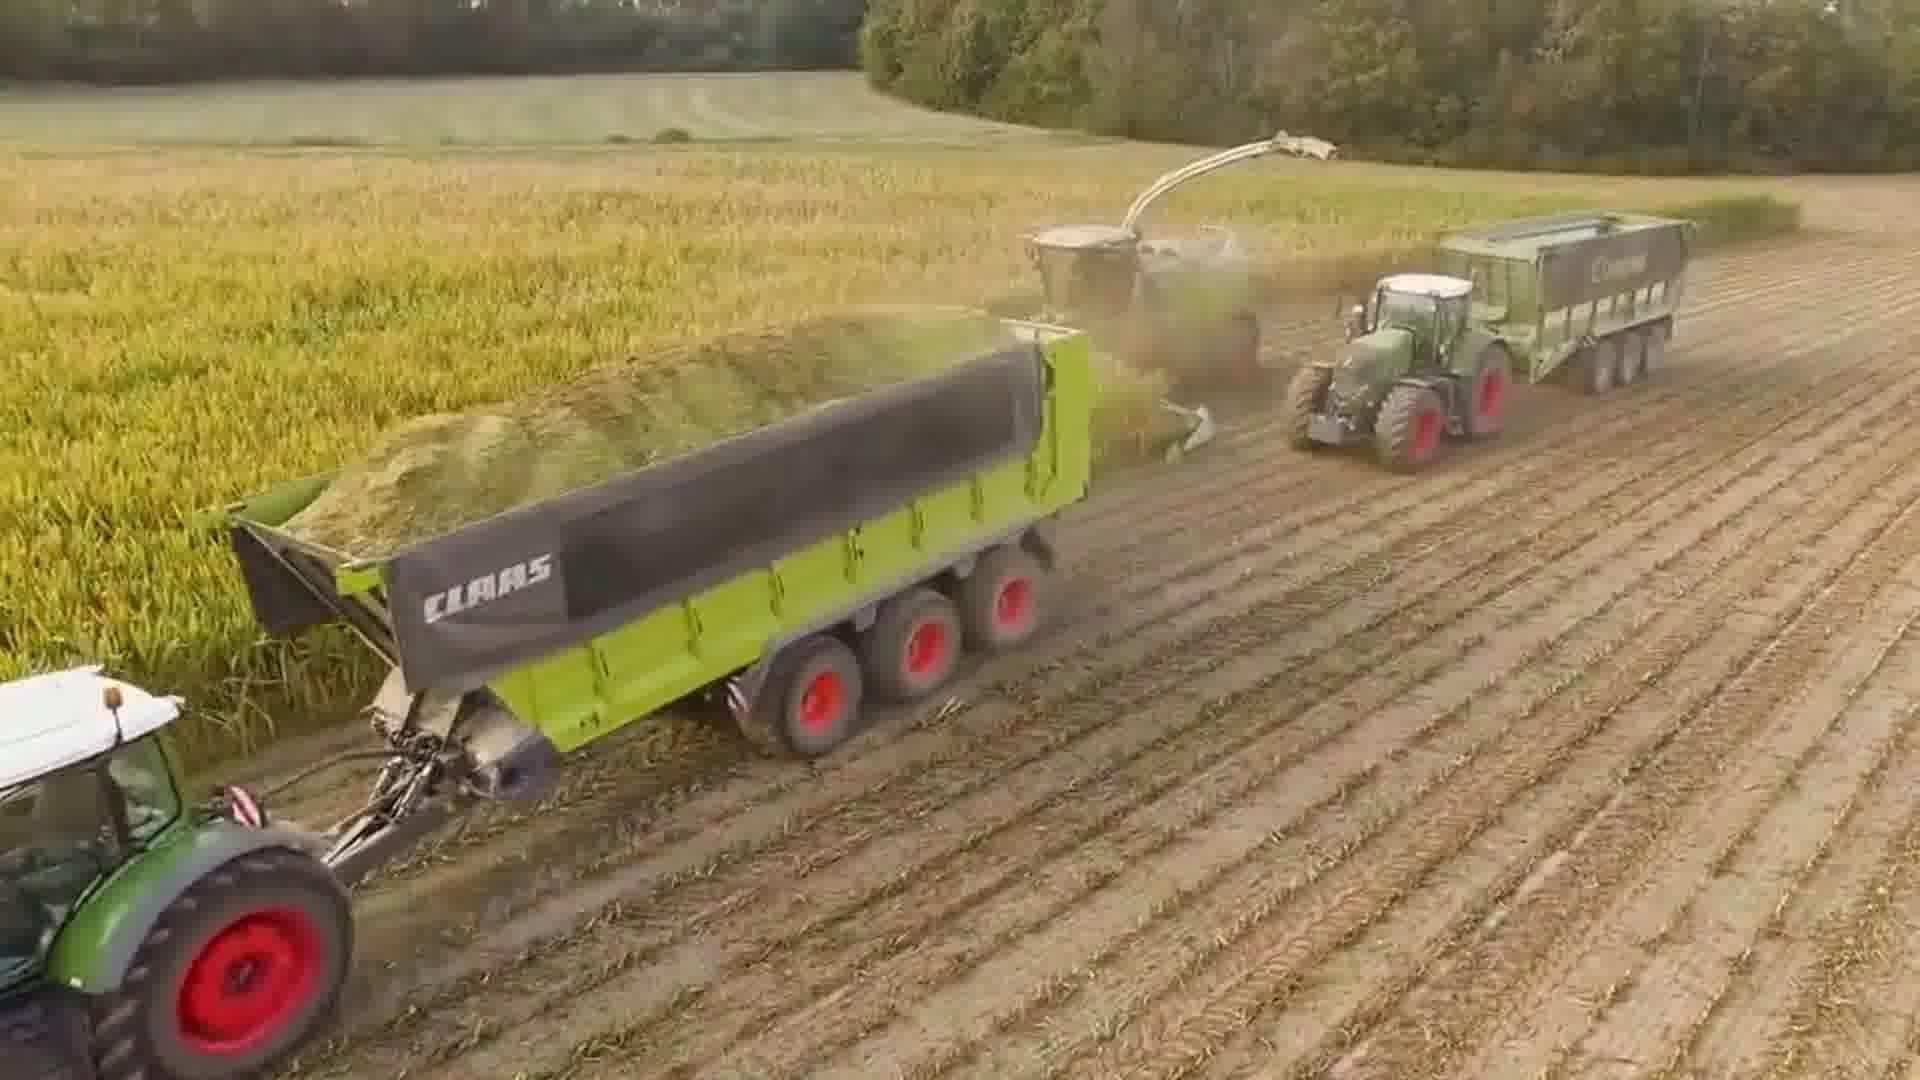combine harvester: (994, 124, 1346, 389)
tractor: (0, 654, 360, 1080), (1280, 268, 1516, 473)
trailer: (202, 290, 1095, 829), (1425, 202, 1701, 406)
